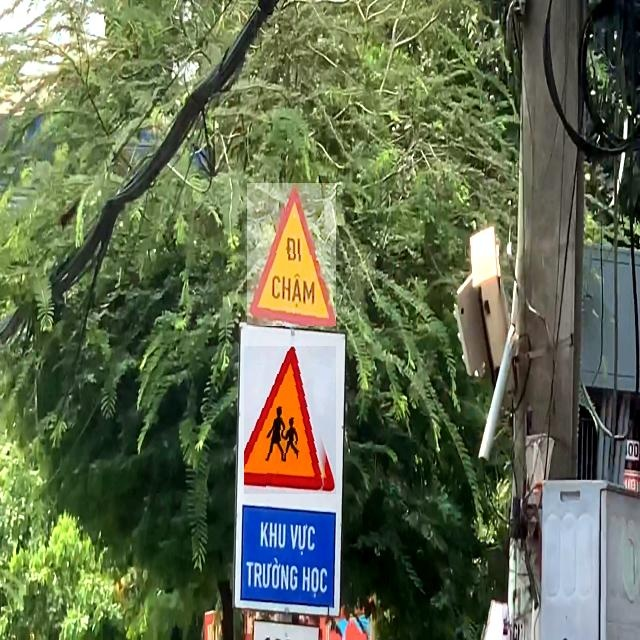bien_cam: (244, 346, 336, 494), (247, 183, 336, 326)
